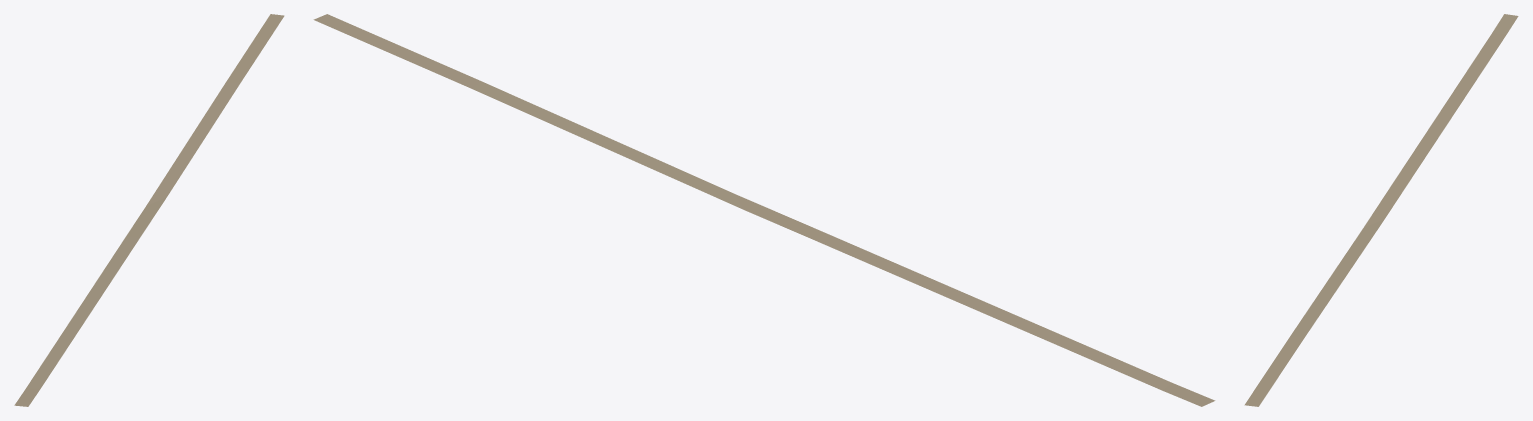
Rendered from farm_4_19_track.glb.
The picture shows the model from 3 angles, left to right: view 1: azimuth 90°, elevation 25°; view 2: azimuth 150°, elevation 25°; view 3: azimuth 270°, elevation 25°; orthographic projection. The views are drawn at different scales.
Parts seen in each view (by area): view 1: geometry_0; view 2: geometry_0; view 3: geometry_0.
Boxes of the visible parts, x1,y1,x2,y2 form: geometry_0: (14, 14, 284, 406); geometry_0: (313, 14, 1215, 406); geometry_0: (1244, 14, 1518, 406).
Size of the model in its own units: 207 by 0.8878 by 60.53.
